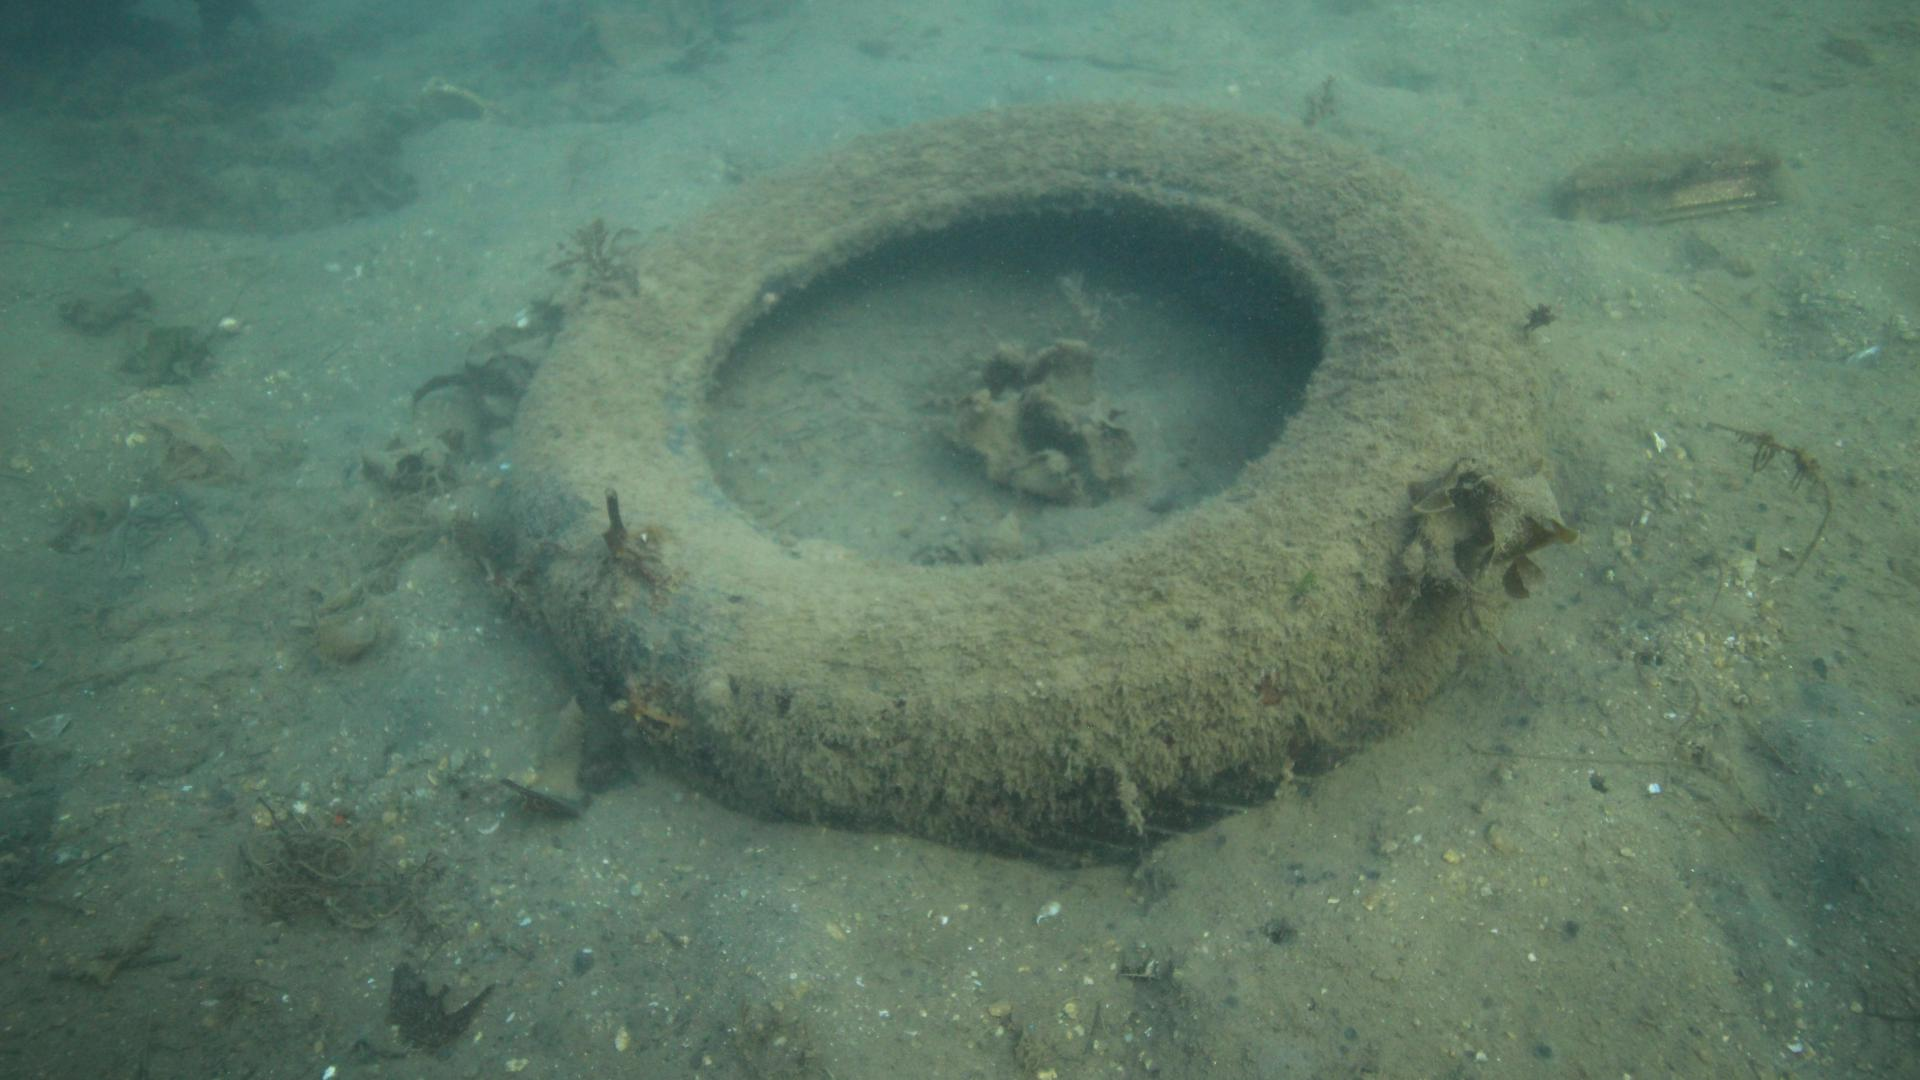tire: (506, 99, 1549, 870)
